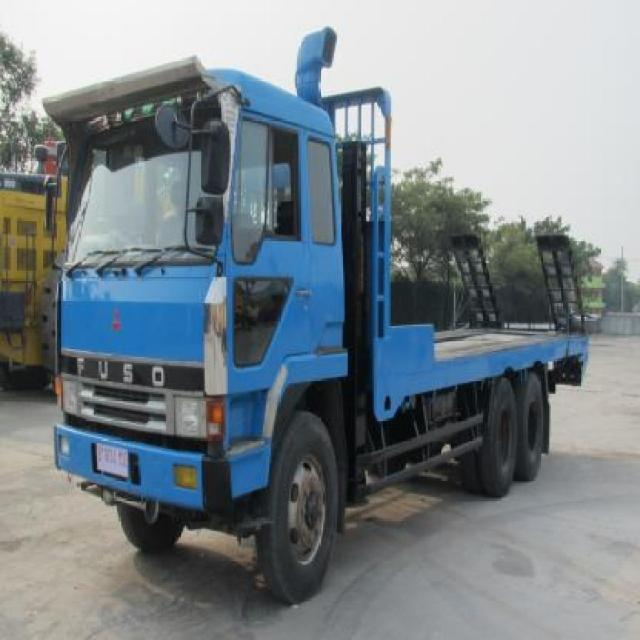truck: (42, 26, 589, 607)
